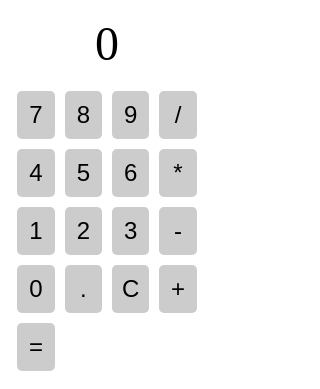
Test: calculator › Garanta em pelo menos dois testes que a multiplicação está funcionando corretamente.
The image size is (320, 389).
Click the button "4".
click(36, 172)  # box [17,148,55,196]
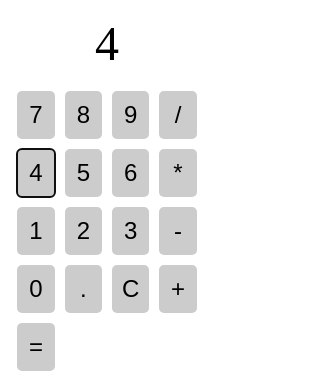
Click the button "*".
click(178, 172)  # box [159,148,197,196]
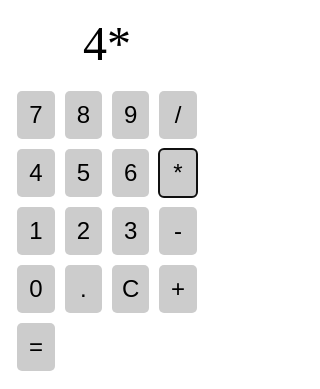
Click the button "2".
click(83, 230)  # box [65,206,102,254]
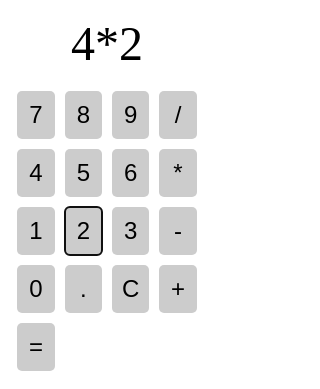
Click the button "=".
click(36, 346)  # box [17,322,55,370]
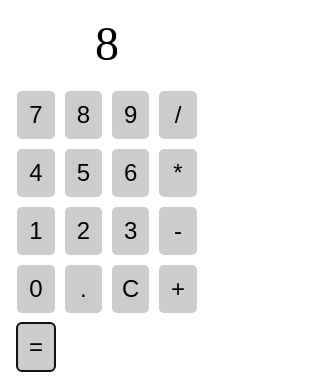
Result: the text with test id "result" reads "8" at [95,16,119,70]
